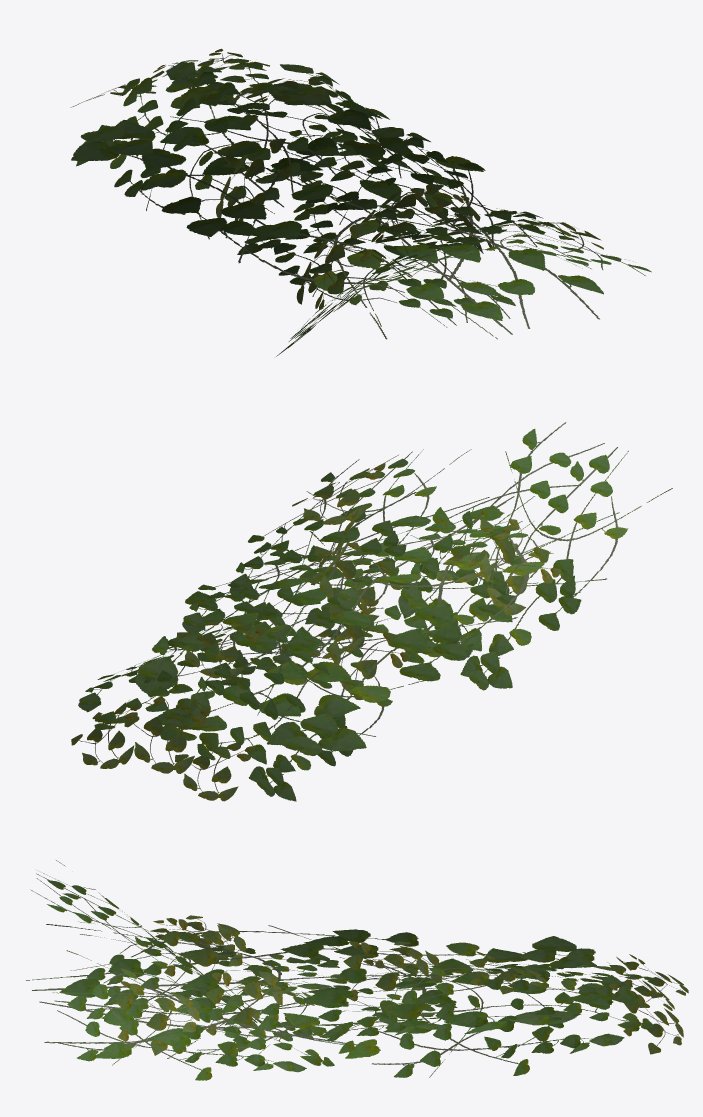
File: vine04_wall_painting.dae
The picture shows the model from 3 angles, top to bottom: view 1: azimuth 30°, elevation 25°; view 2: azimuth 150°, elevation 25°; view 3: azimuth 270°, elevation 25°; orthographic projection. The views are drawn at different scales.
Visible parts, largest first — view 1: vine04_wall_paint_a80, vine04_wall_paint_a40, vine04_wall_paint_a150; view 2: vine04_wall_paint_a80, vine04_wall_paint_a40, vine04_wall_paint_a150; view 3: vine04_wall_paint_a80, vine04_wall_paint_a40, vine04_wall_paint_a150.
Part boxes in pixels (x1,y1,x2,y2): vine04_wall_paint_a80: [76, 58, 651, 356]; vine04_wall_paint_a40: [71, 77, 603, 339]; vine04_wall_paint_a150: [70, 48, 603, 309]; vine04_wall_paint_a80: [78, 422, 672, 801]; vine04_wall_paint_a40: [134, 492, 619, 755]; vine04_wall_paint_a150: [71, 463, 561, 801]; vine04_wall_paint_a80: [30, 860, 655, 1080]; vine04_wall_paint_a40: [26, 924, 639, 1058]; vine04_wall_paint_a150: [109, 915, 688, 1055].
Size of the model in its own units: 1.7 by 2.99 by 0.8994.
